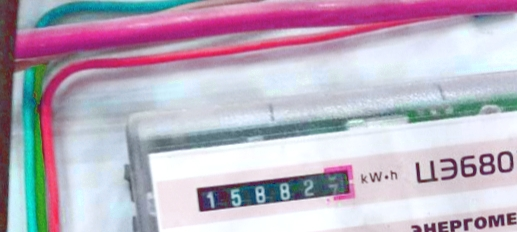1: (204, 187, 218, 207)
2: (302, 175, 316, 195)
5: (229, 184, 243, 205)
7: (328, 179, 340, 194)
8: (254, 181, 268, 203), (279, 178, 293, 200)
screen: (188, 156, 366, 219)
